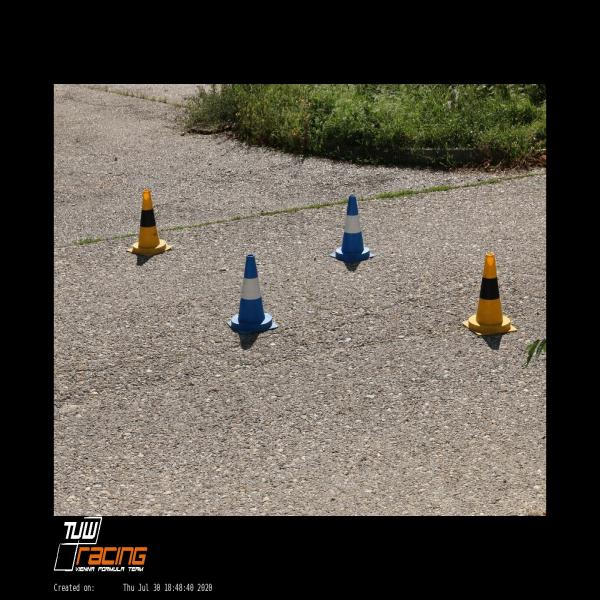blue_cone: (228, 254, 280, 336), (328, 194, 376, 264)
yellow_cone: (462, 252, 518, 335), (126, 189, 172, 256)
